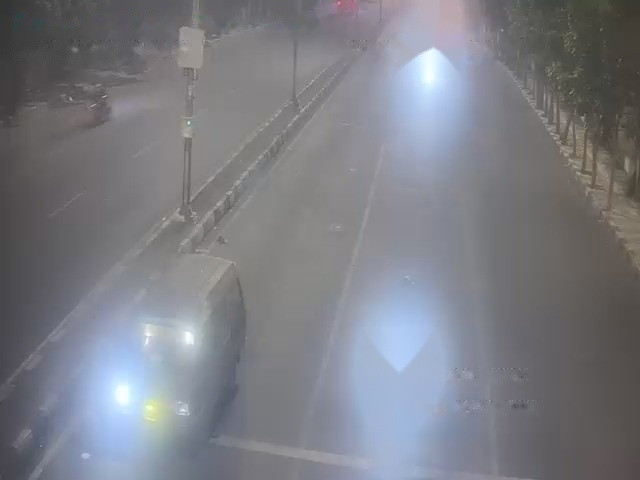Mobil: (126, 247, 238, 431)
